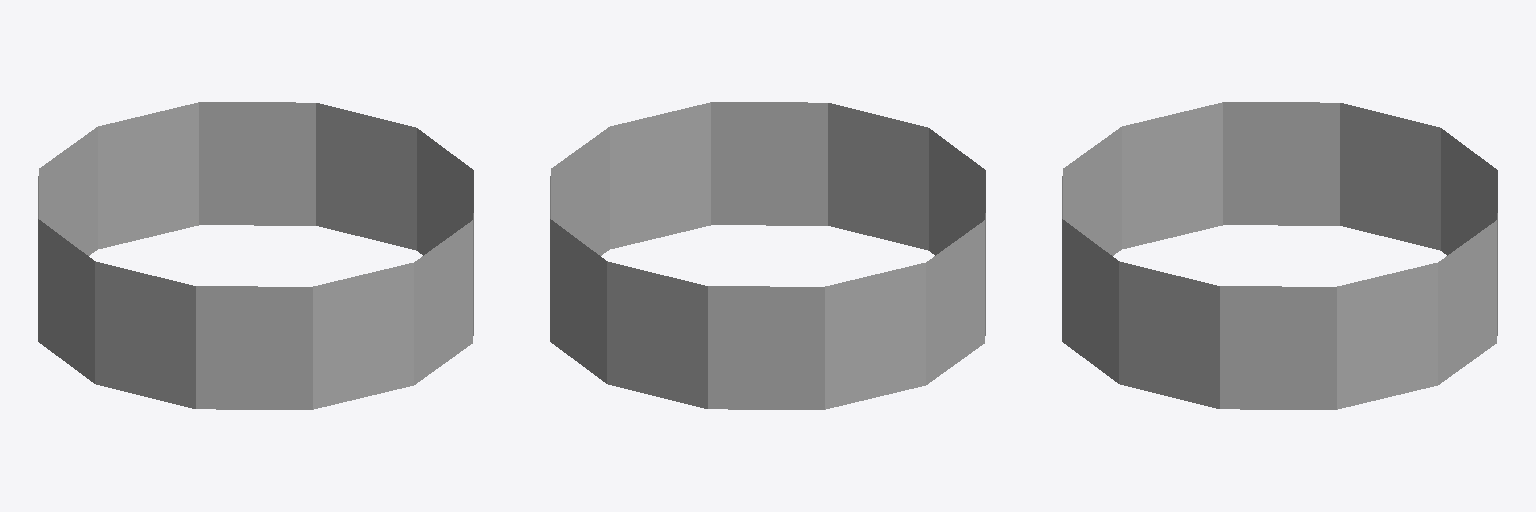
The model's file is Environment.obj.
3 renders of one model, left to right at view 1: azimuth 30°, elevation 25°; view 2: azimuth 150°, elevation 25°; view 3: azimuth 270°, elevation 25°, orthographic.
Parts seen in each view (by area): view 1: polygon0.001_polygon0.003; view 2: polygon0.001_polygon0.003; view 3: polygon0.001_polygon0.003.
Boxes of the visible parts, x1,y1,x2,y2 form: polygon0.001_polygon0.003: [38, 102, 473, 409]; polygon0.001_polygon0.003: [550, 102, 985, 409]; polygon0.001_polygon0.003: [1062, 102, 1497, 409].
Bounding box in the file's own units: 892 × 278 × 892.